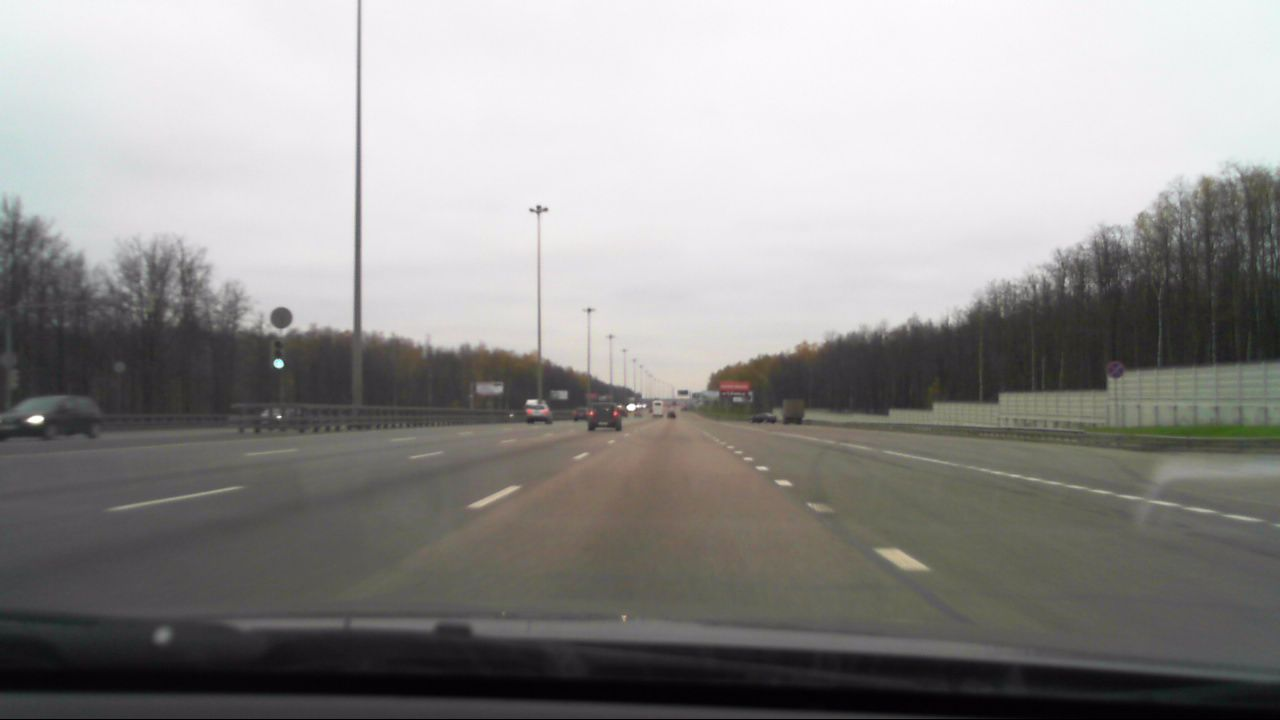No Parking: (1103, 362, 1125, 382)
